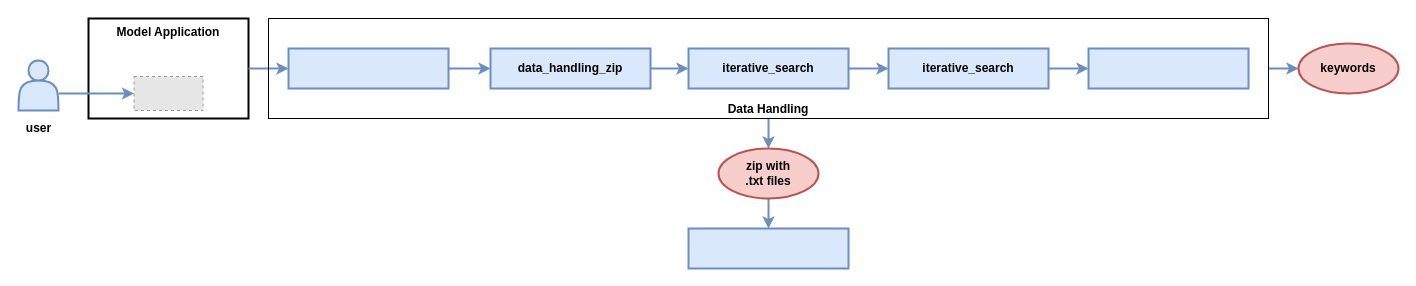
The diagram is 1416 pixels wide and 286 high, and some of its shapes have lost their labels. Grey dashed boxes stand in for pictures. The centre of each missing label's shape, as x and y in pixels:
"api2txt" belongs at (1168,68).
"create_summary" belongs at (768,248).
"download_documents" belongs at (368,68).
